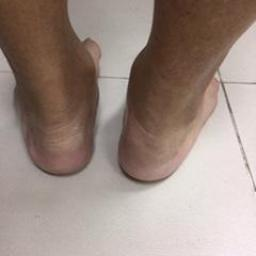Back View -Both Feet-: (5, 16, 237, 198)
